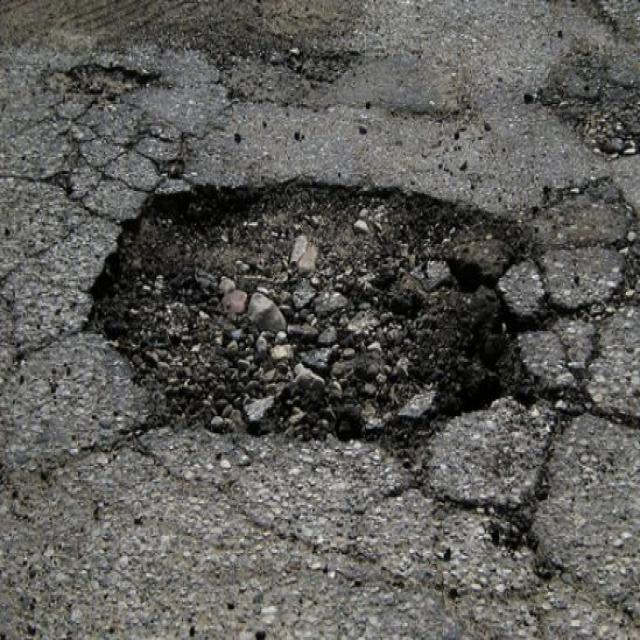pothole: (74, 172, 552, 474)
